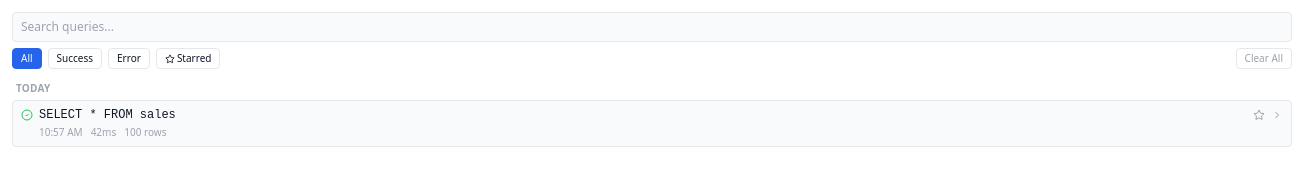
Test: QH-4: Search filters queries › shows no-results message when search matches nothing
Type "nonexistent_table" into the field with test id "query-history-search" at (652, 27), box [12,12,1292,42]
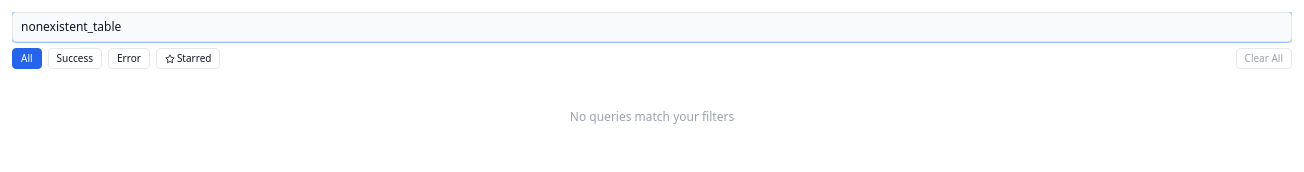
Now the element with test id "query-history-no-results" is shown, box [570,108,734,125]
Now the text "No queries match your filters" is shown, box [570,109,734,125]
